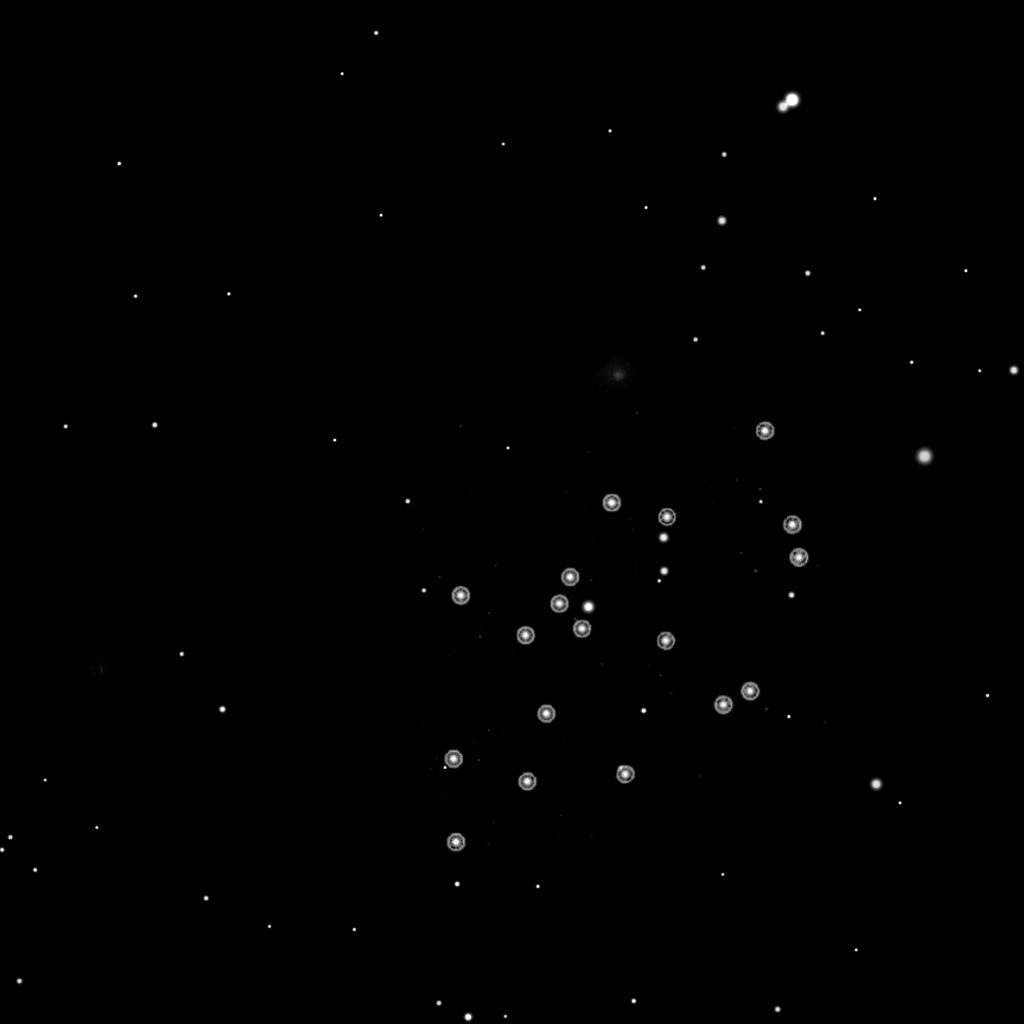canis_major: (510, 491, 678, 648)
